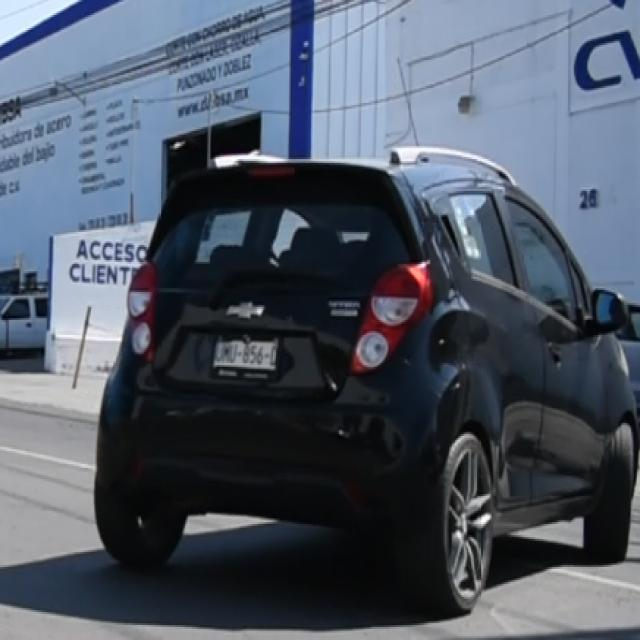placa: (217, 335, 281, 370)
